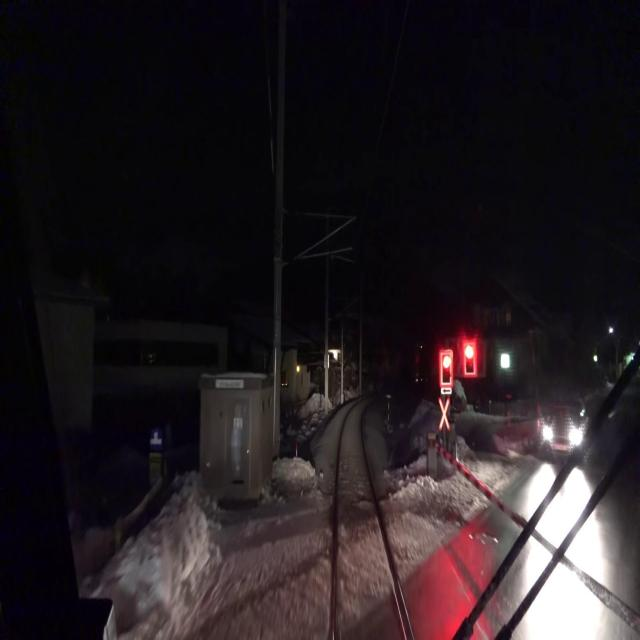rail-track: (336, 401, 406, 639)
